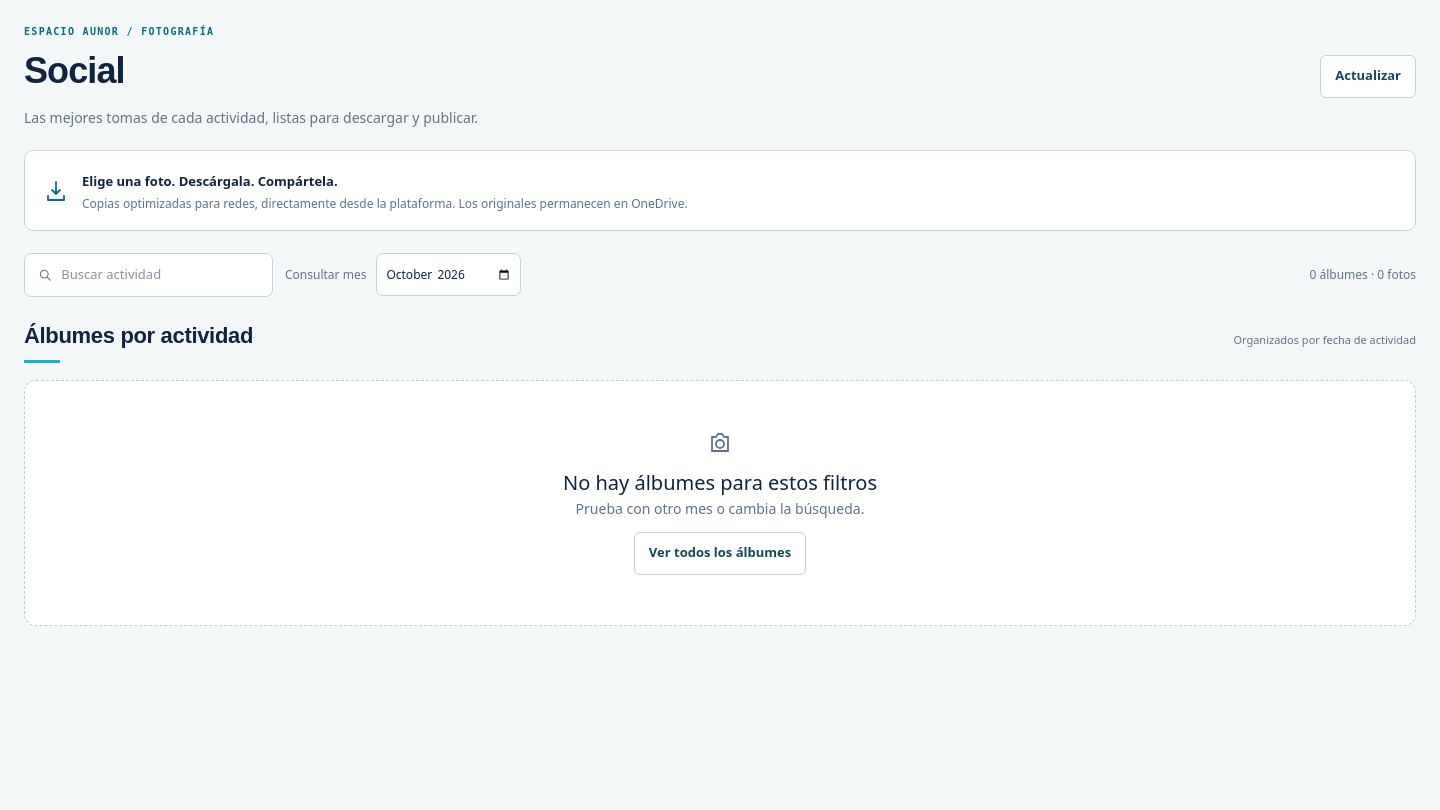
clasifica por fecha del trabajo y conserva OneDrive como enlace opcional
Check: the heading "No hay álbumes para estos filtros" is shown, box 563,468 -> 877,498
Replace the text in the field named "Mes de las fotos" with "2026-04" at (449, 275), box 376,253 -> 521,296
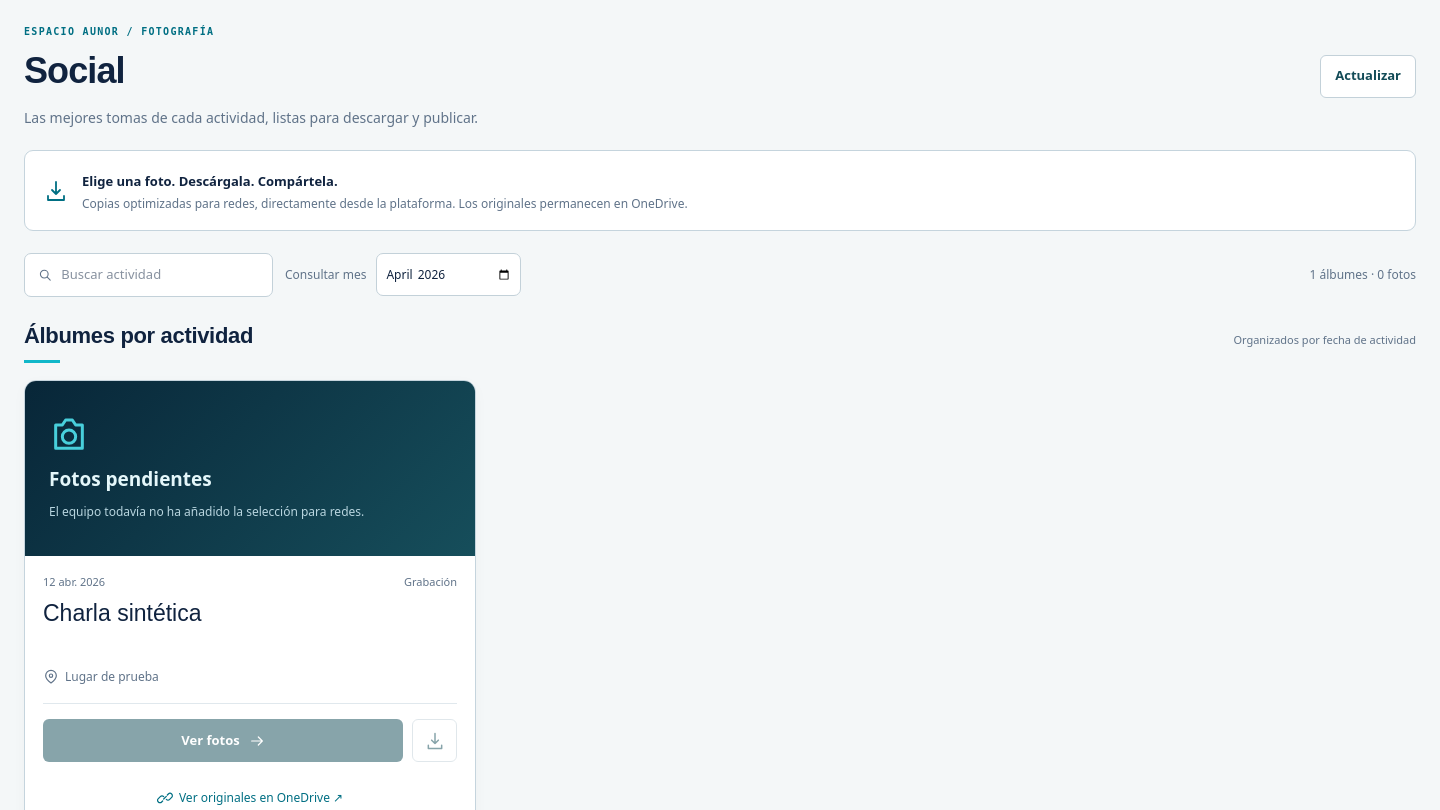
Check: the button named "Descargar álbum de Charla sintética" is disabled, box 412,719 -> 457,762
